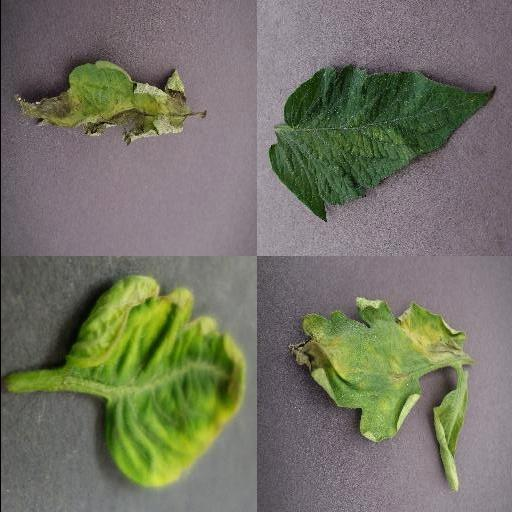Late Blight: (284, 291, 470, 489), (13, 59, 187, 145)
Spider Mites: (267, 65, 499, 223)
Yellow Leaf Curl Virus: (64, 276, 246, 490)
